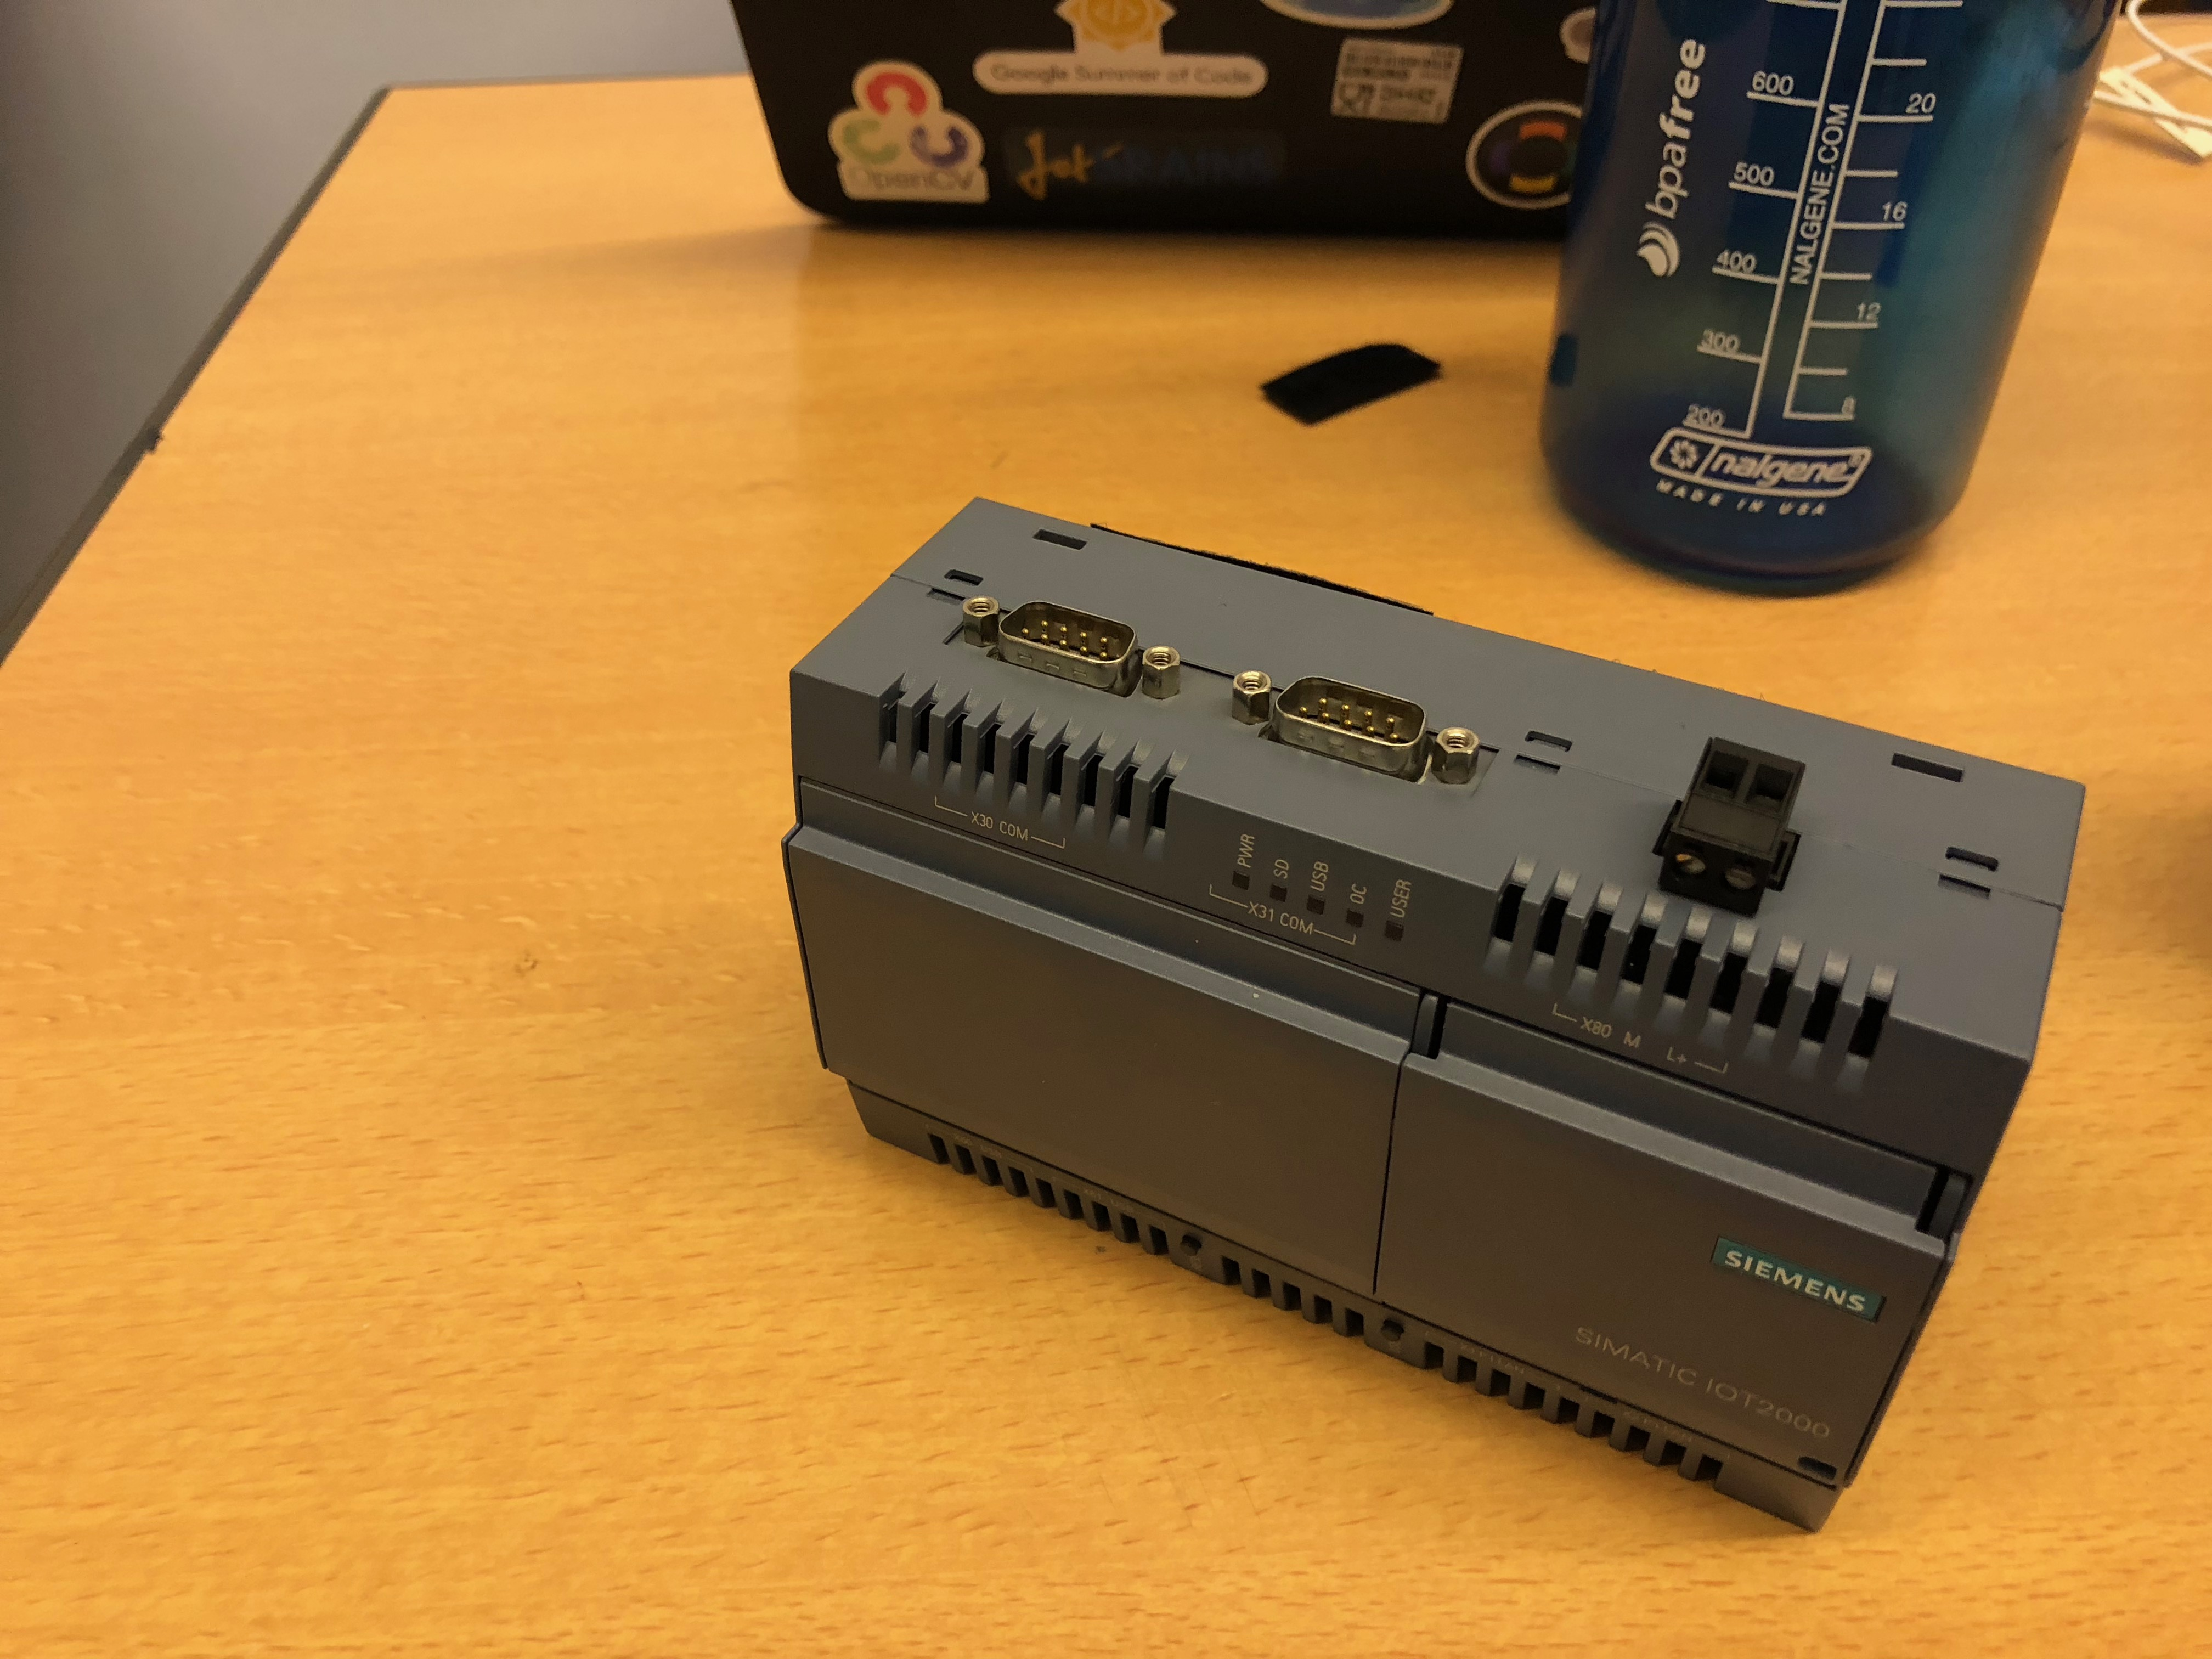device: (779, 493, 2088, 1535)
